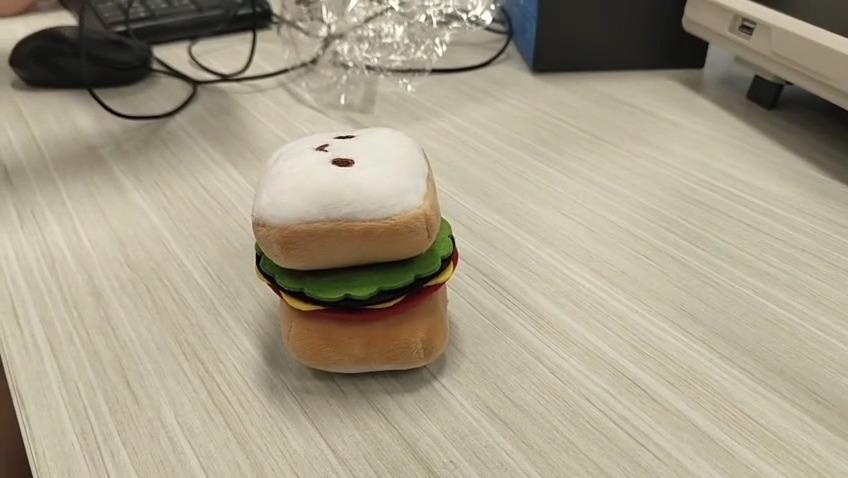objects: (251, 126, 459, 376)
